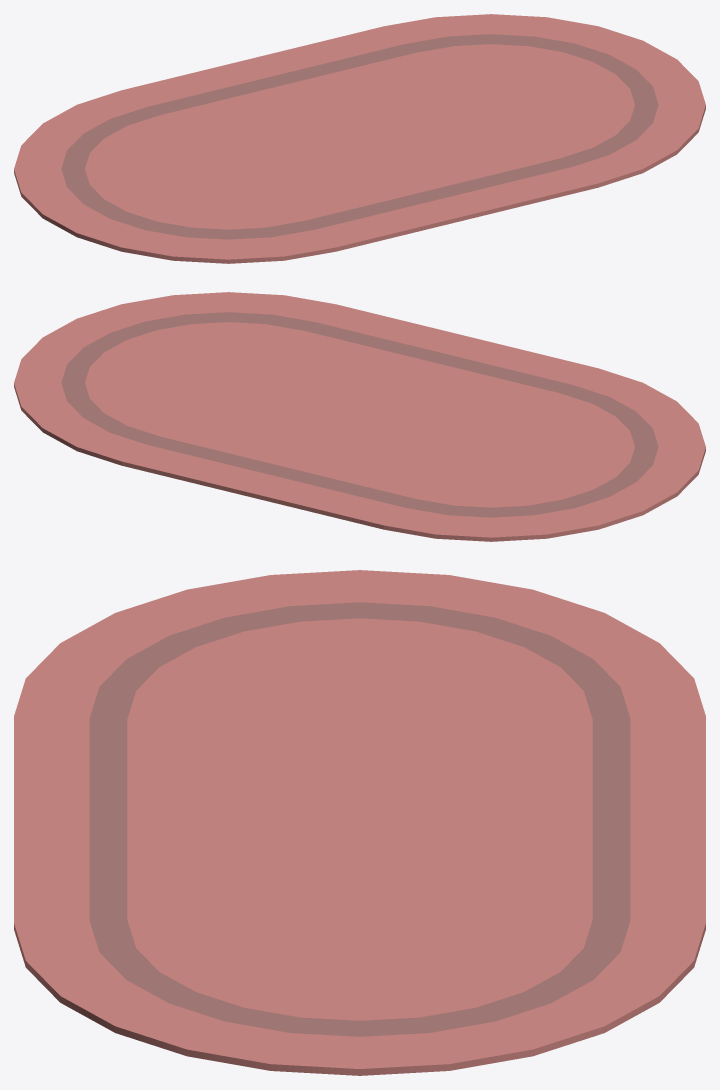
File: rugRounded.glb
The picture shows the model from 3 angles, top to bottom: view 1: azimuth 30°, elevation 25°; view 2: azimuth 150°, elevation 25°; view 3: azimuth 270°, elevation 25°; orthographic projection. The views are drawn at different scales.
Visible parts, largest first — view 1: rugRounded; view 2: rugRounded; view 3: rugRounded.
Boxes of the visible parts, x1,y1,x2,y2 form: rugRounded: (14, 14, 705, 263); rugRounded: (14, 292, 705, 541); rugRounded: (14, 570, 705, 1075).
Bounding box in the file's own units: 1.57 × 0.01 × 0.92.
